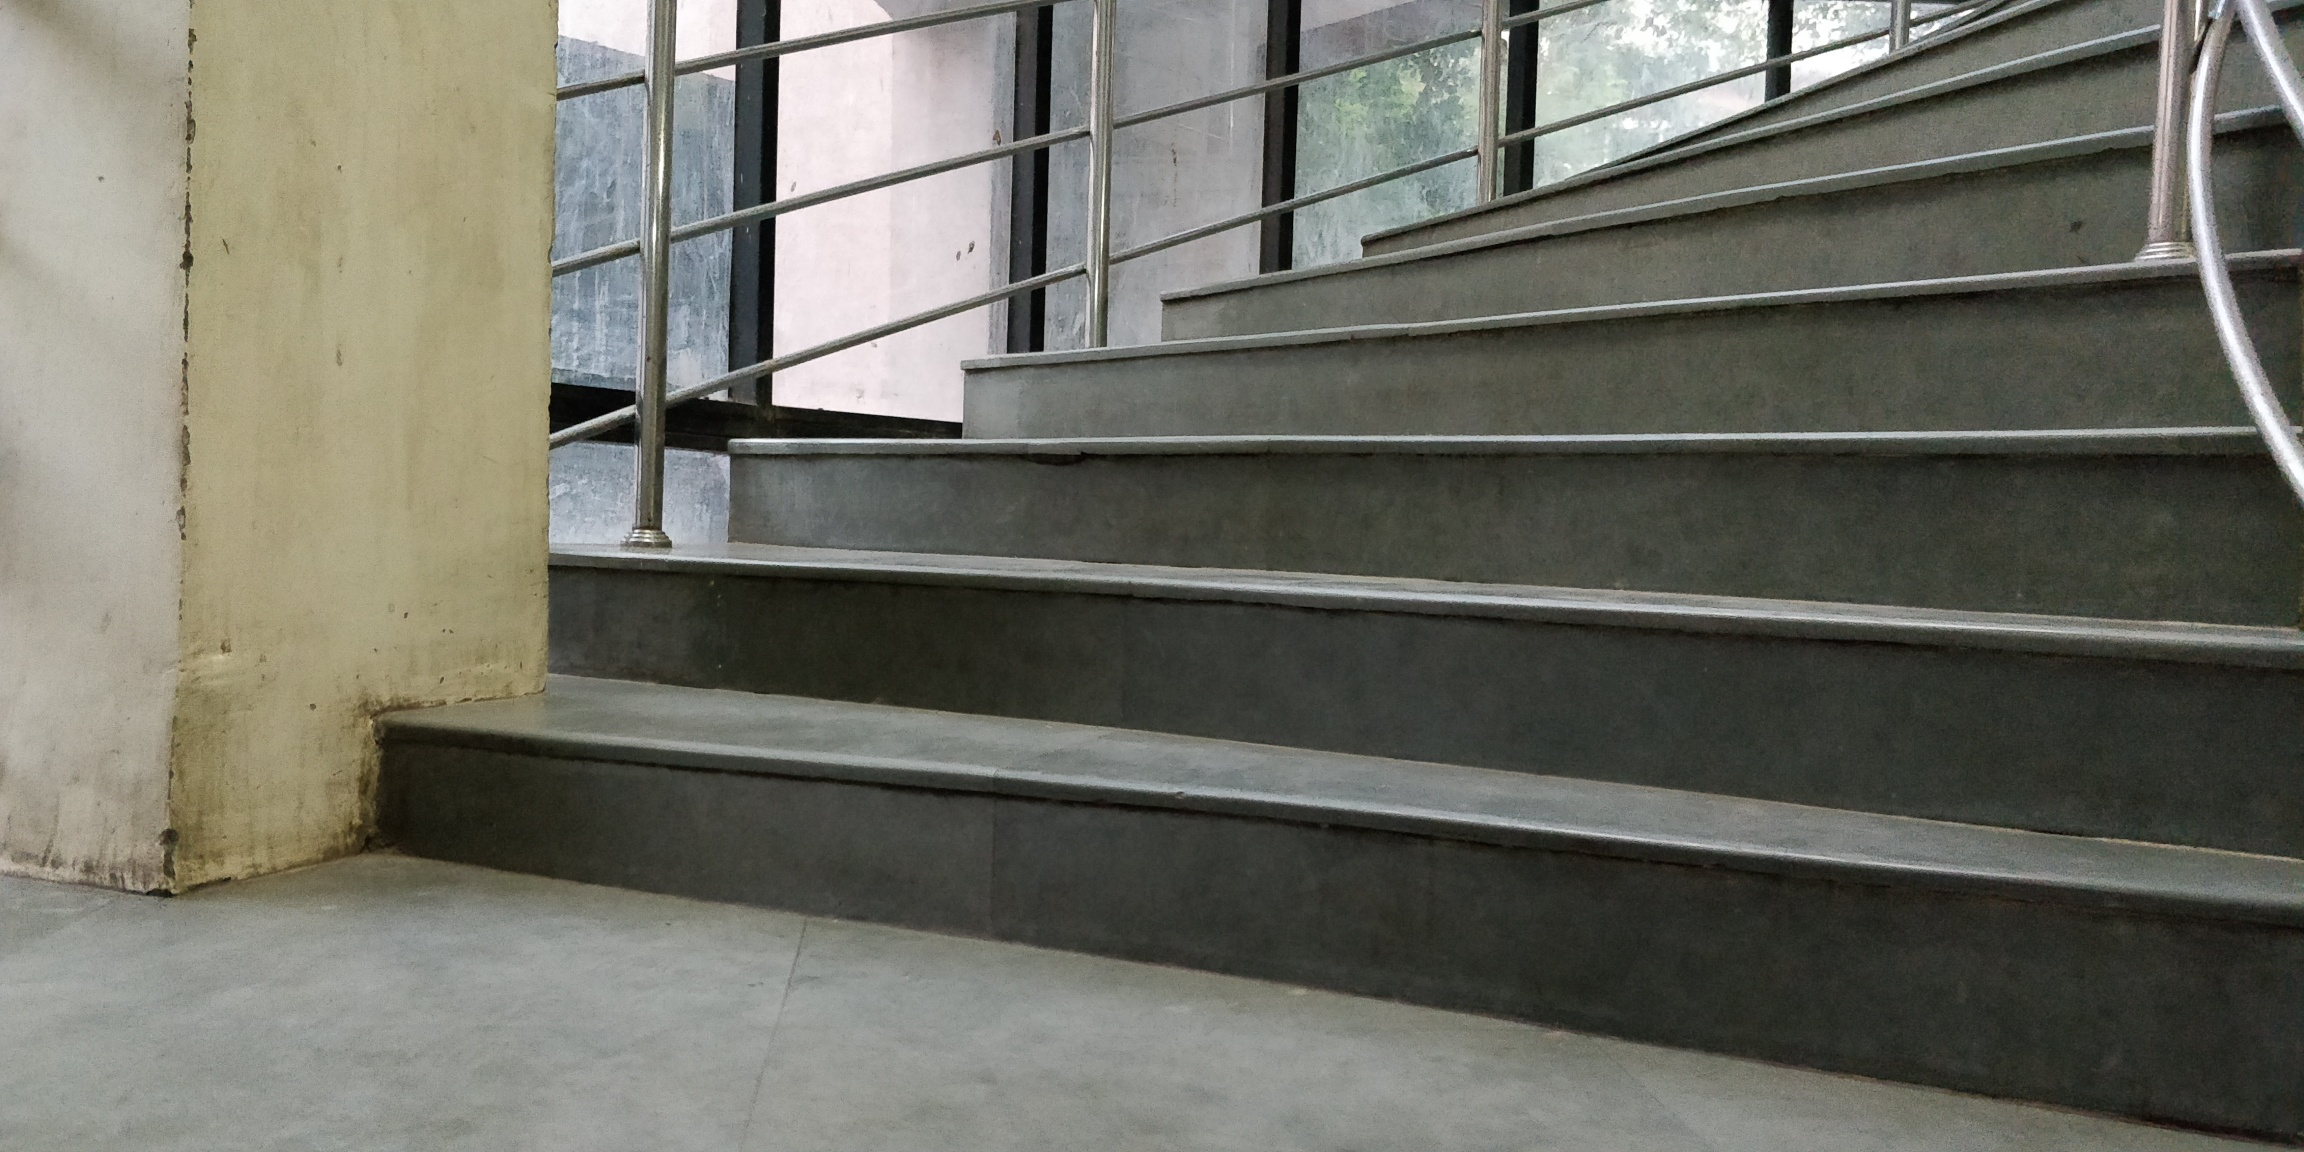stairs_up: (410, 34, 2279, 949)
